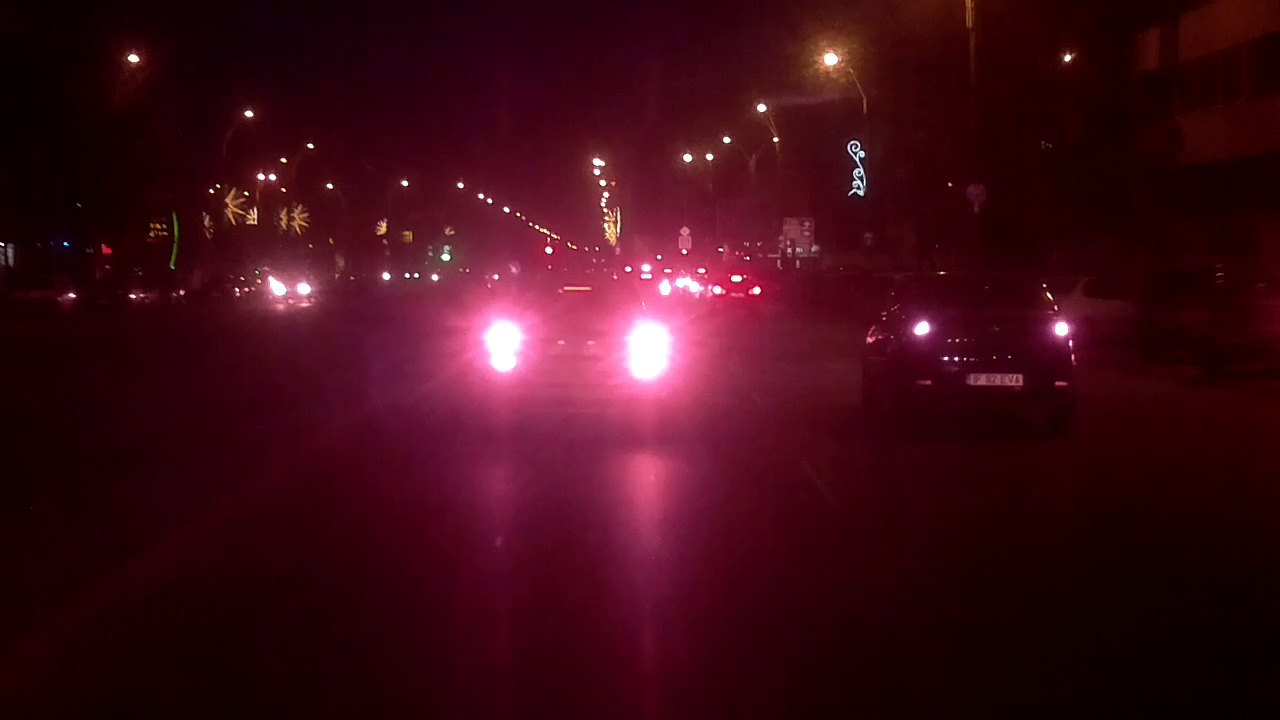license-plate: (963, 370, 1025, 387)
